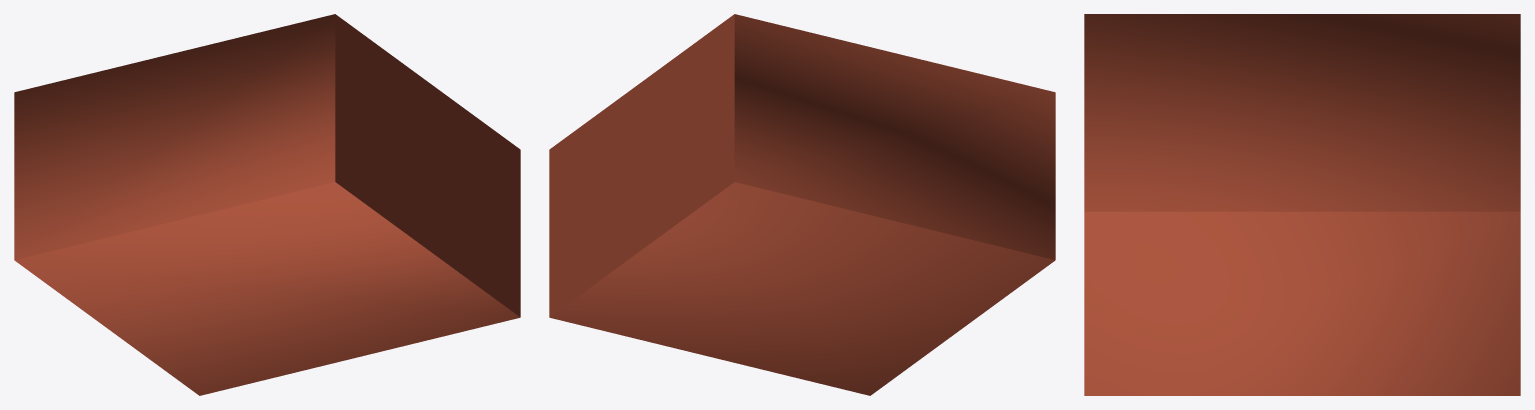
Rendered from r6c5_border_brown.gltf.
3 views of the same model, side by side, from view 1: azimuth 30°, elevation 25°; view 2: azimuth 150°, elevation 25°; view 3: azimuth 270°, elevation 25° (orthographic). The views are drawn at different scales.
Visible parts, largest first — view 1: r6c5_border_brown; view 2: r6c5_border_brown; view 3: r6c5_border_brown.
Part boxes in pixels (bbox=[...]): r6c5_border_brown: bbox=[14, 14, 520, 395]; r6c5_border_brown: bbox=[549, 14, 1055, 395]; r6c5_border_brown: bbox=[1084, 14, 1520, 395].
Size of the model in its own units: 2.1 by 1.05 by 2.1.
Materials: 1 (1 with a texture image).
